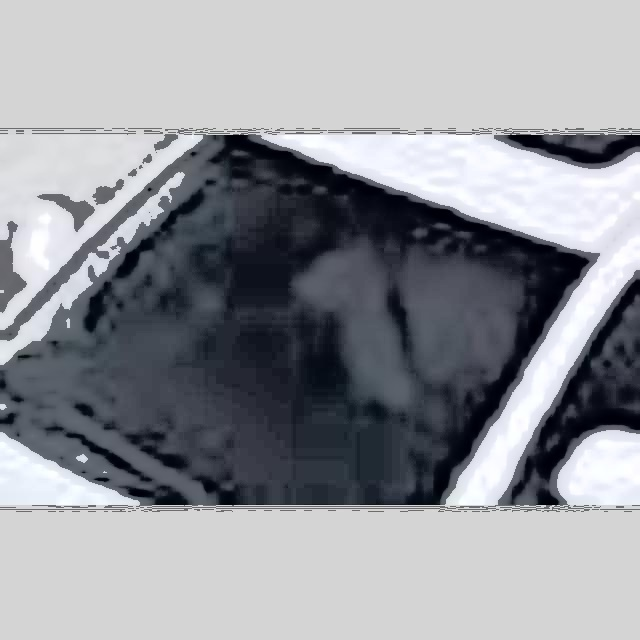pakai: (276, 222, 538, 448)
